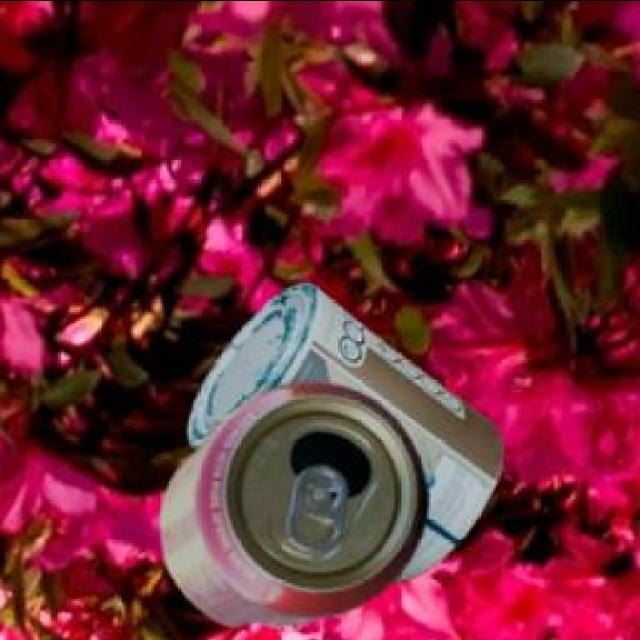logam: (186, 286, 499, 586), (157, 386, 426, 630)
